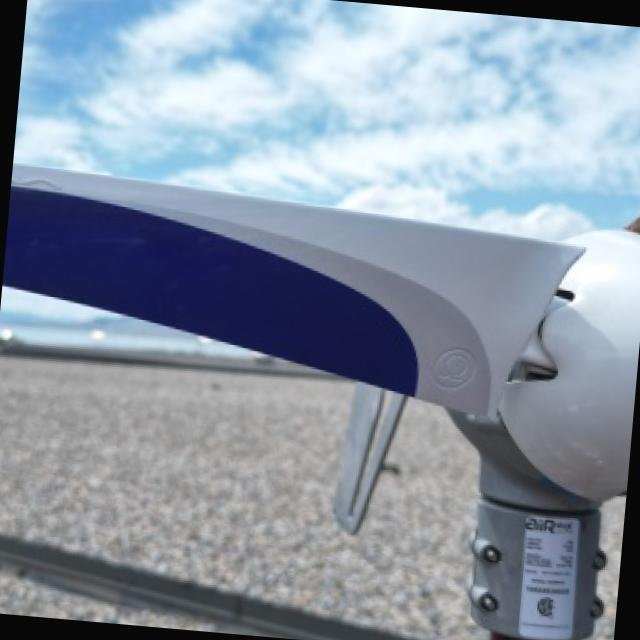healthy: (2, 165, 640, 640)
